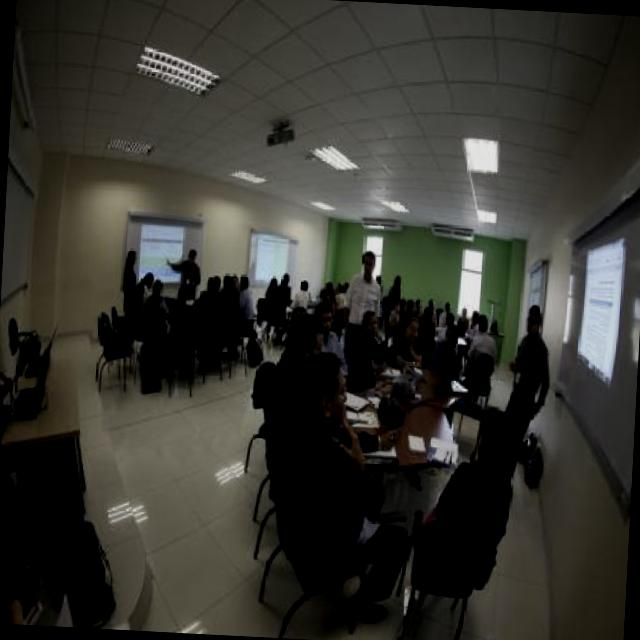Person: (244, 245, 502, 638), (411, 402, 519, 591), (115, 245, 257, 387), (508, 297, 560, 483)
